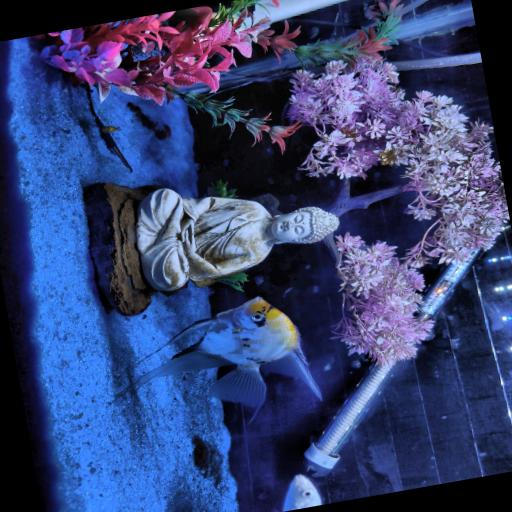Fish: (116, 297, 320, 405), (282, 474, 320, 511), (101, 125, 118, 132)
